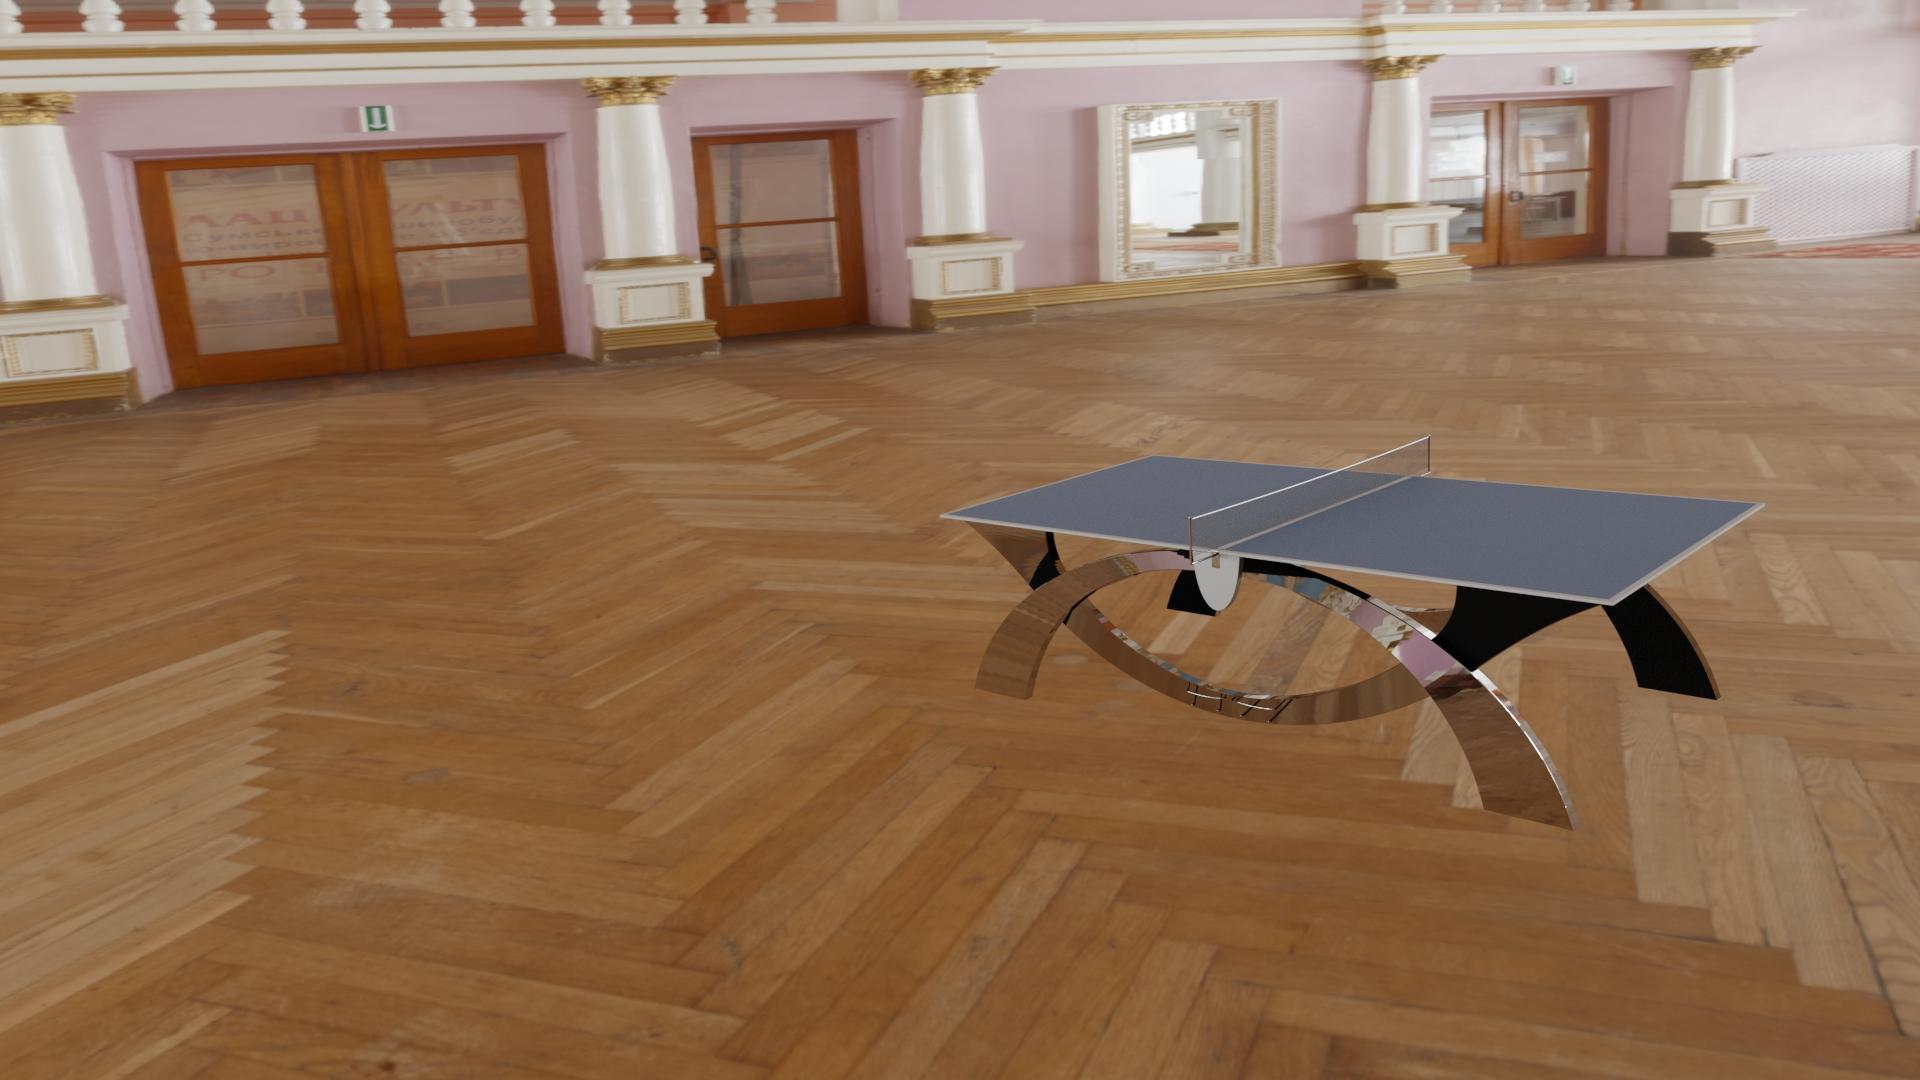table: (947, 455, 1758, 600)
